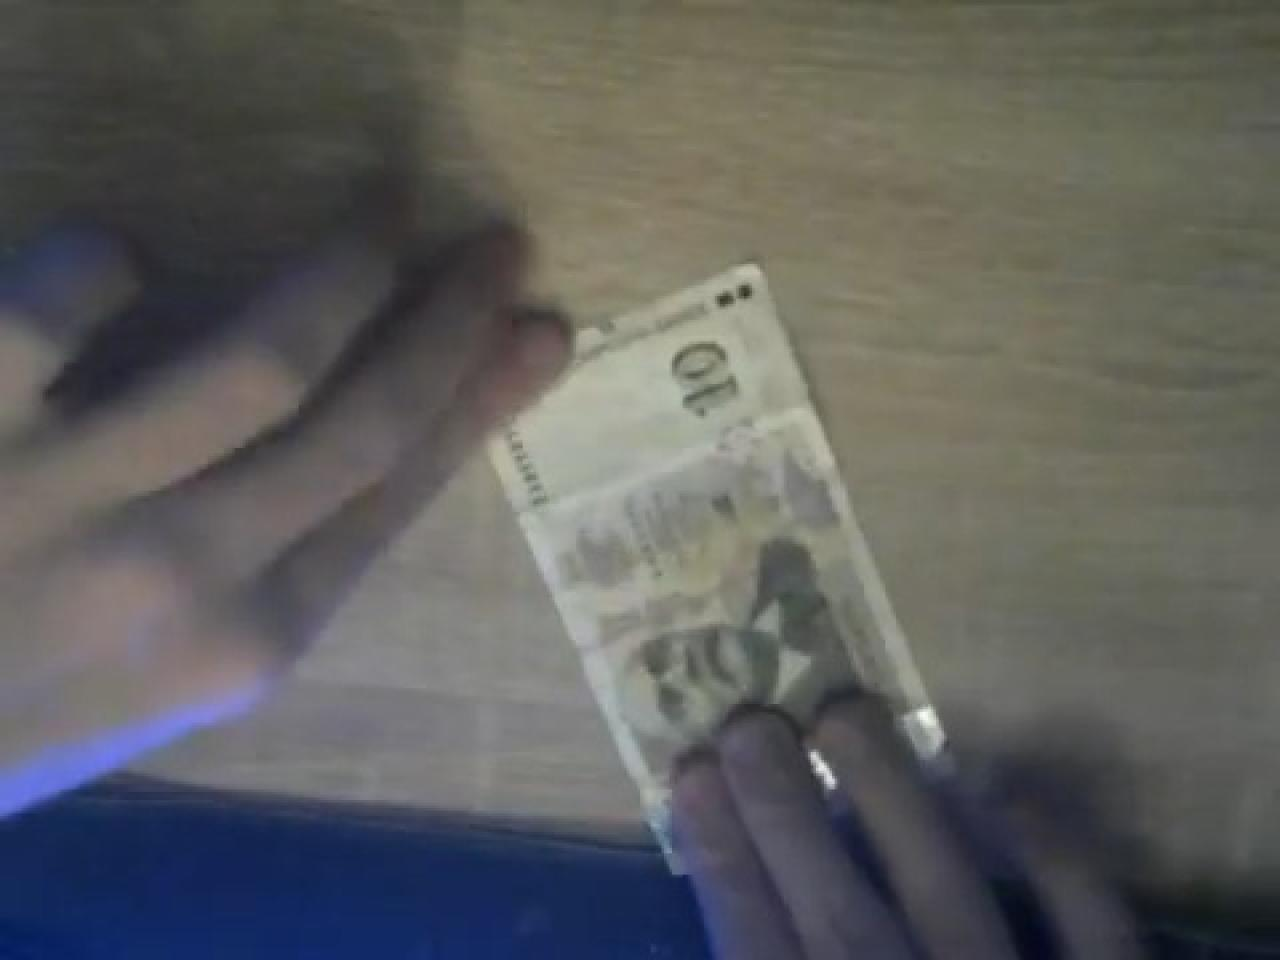10leva: (488, 259, 1066, 960)
